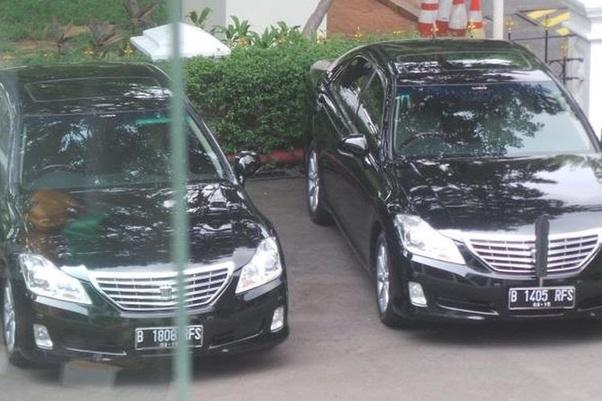plate: (508, 285, 576, 312)
